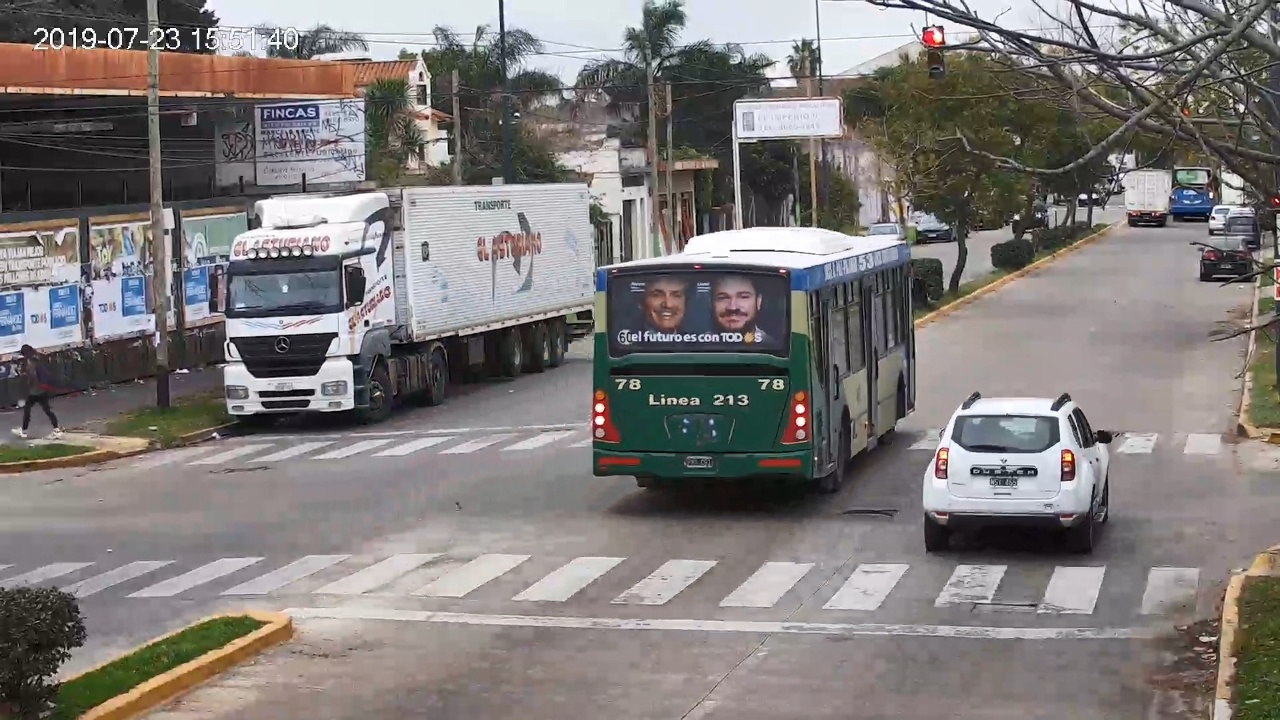bus: (591, 226, 926, 490)
car: (922, 392, 1112, 553)
traffic light: (924, 26, 945, 77)
